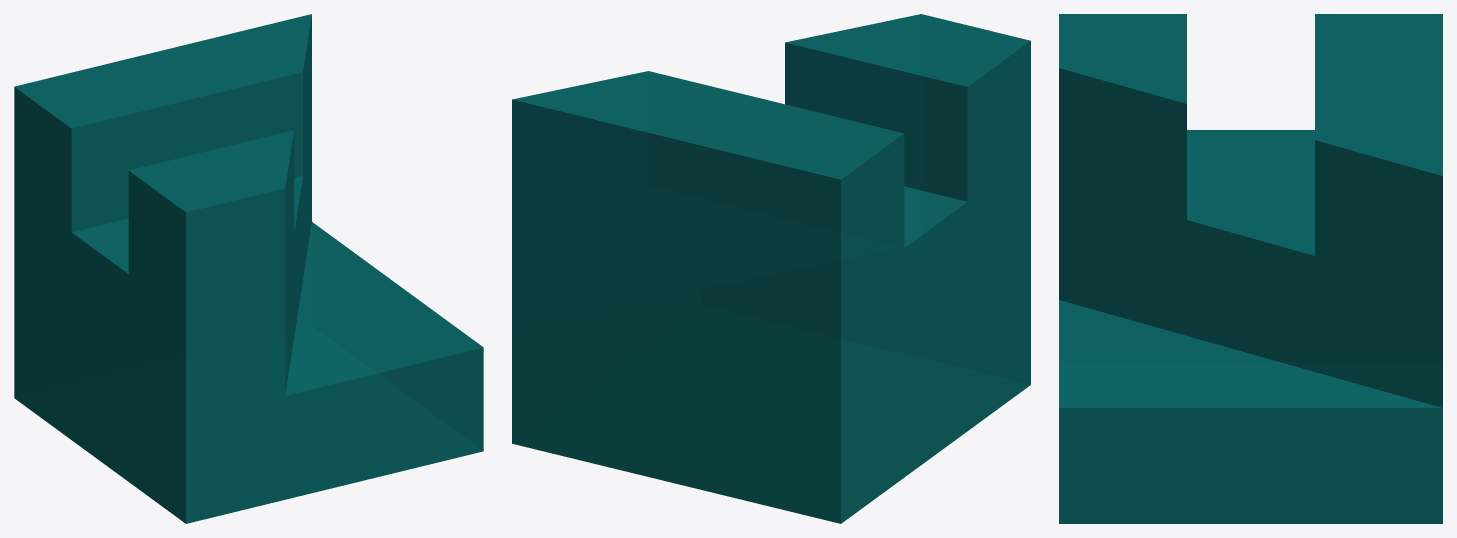
The picture shows the model from 3 angles, left to right: view 1: azimuth 30°, elevation 25°; view 2: azimuth 150°, elevation 25°; view 3: azimuth 270°, elevation 25°; orthographic projection. The views are drawn at different scales.
Visible parts, largest first — view 1: SketchUp; view 2: SketchUp; view 3: SketchUp.
Boxes of the visible parts, x1,y1,x2,y2 form: SketchUp: (14, 14, 483, 523); SketchUp: (512, 14, 1030, 523); SketchUp: (1059, 14, 1442, 523).
Bounding box in the file's own units: 59.06 × 59.06 × 59.06.
